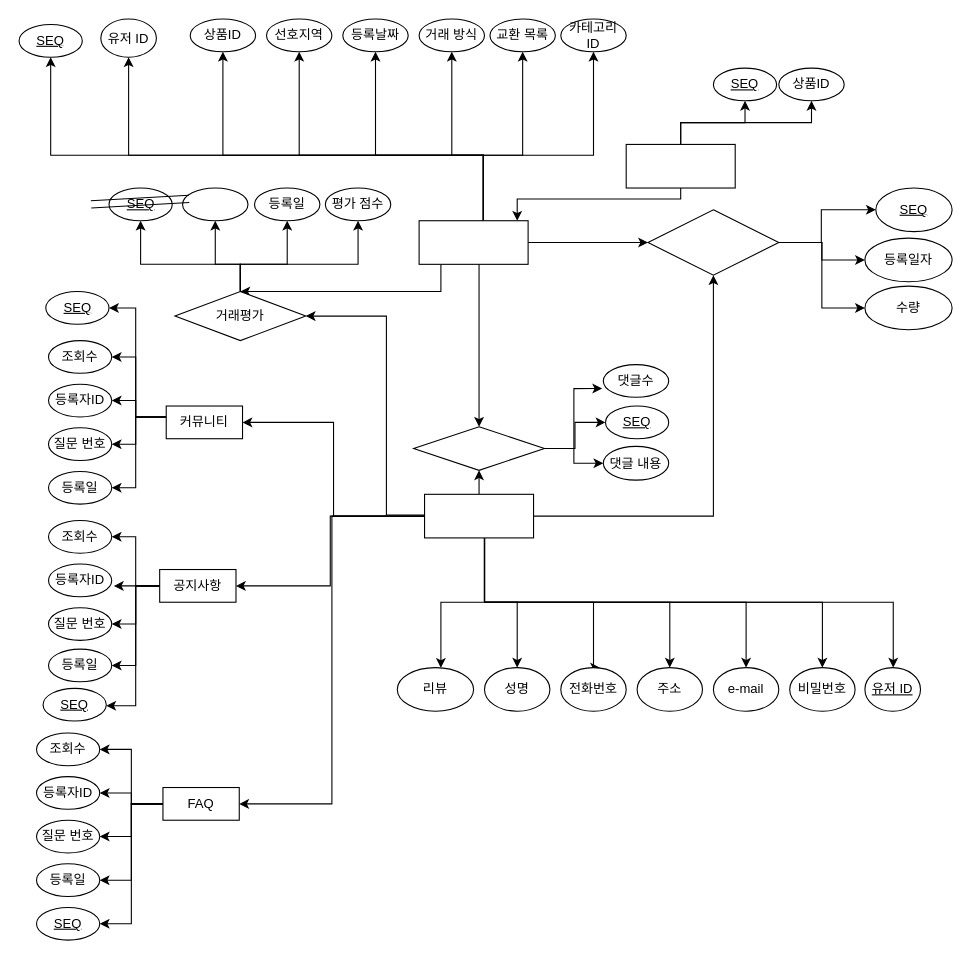
Image size: 971x959. Some labels were removed from this diagram. Here are the shapes that lost their labels. From the top down, the centre of each, then its label:
At [680,165]: "카테고리".
At [214,204]: "내용".
At [473,242]: "게시글".
At [713,242]: "관심상품".
At [478,448]: "댓글".
At [478,515]: "회원".
